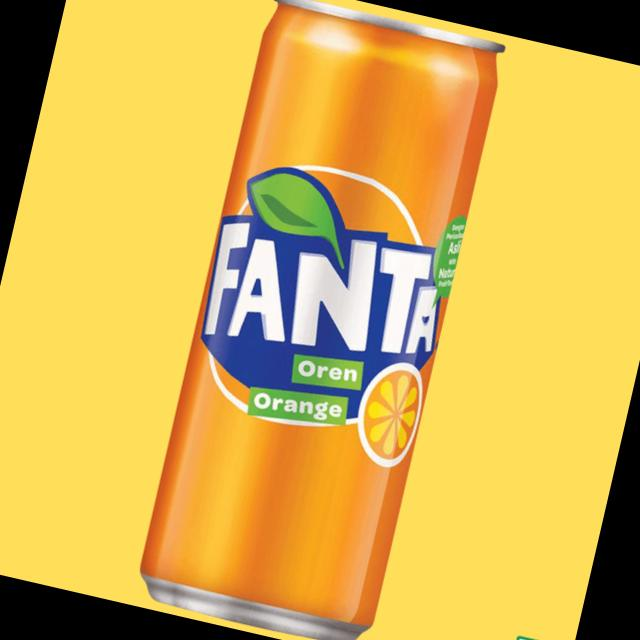fanta: (121, 0, 504, 640)
